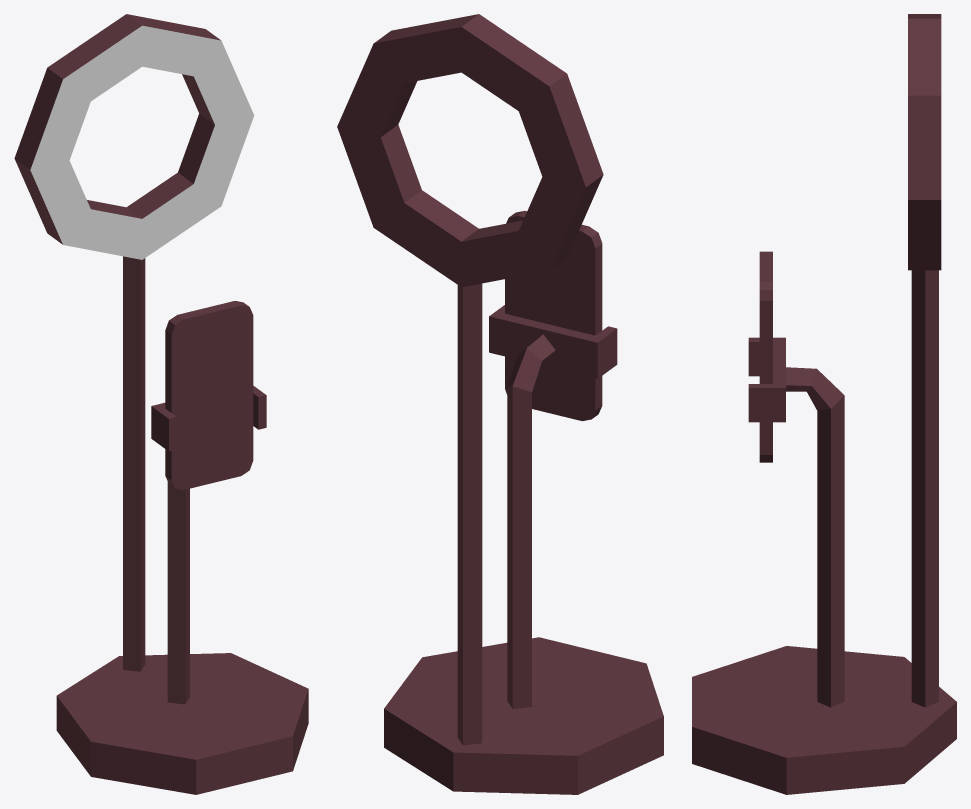
File: light-ring-table.fbx
3 views of the same model, side by side, from view 1: azimuth 30°, elevation 25°; view 2: azimuth 150°, elevation 25°; view 3: azimuth 270°, elevation 25° (orthographic). The views are drawn at different scales.
Visible parts, largest first — view 1: light-ring-table; view 2: light-ring-table; view 3: light-ring-table.
Part boxes in pixels (x1,y1,x2,y2): light-ring-table: [14, 14, 308, 794]; light-ring-table: [337, 14, 663, 794]; light-ring-table: [692, 14, 956, 794].
Size of the model in its own units: 0.206 by 0.6 by 0.2.
